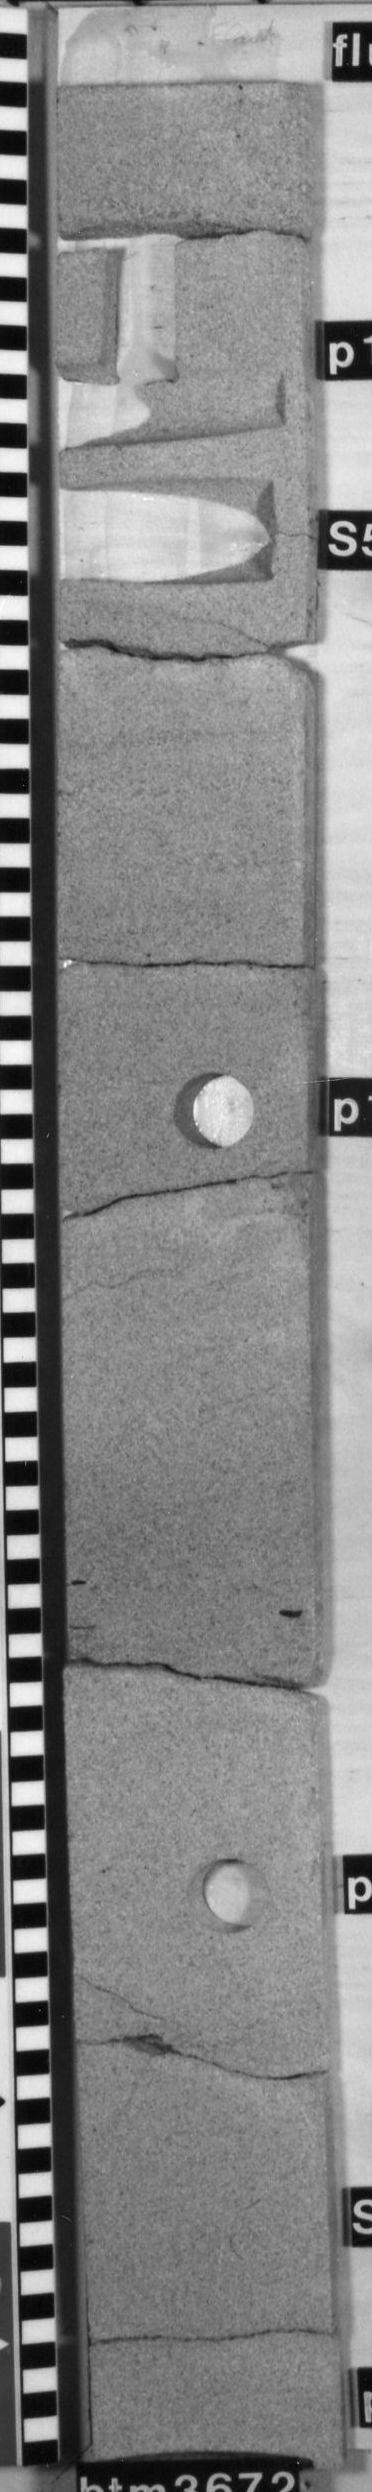hplug: (114, 367, 304, 443), (161, 1052, 265, 1162), (180, 1842, 285, 1952)
scal: (56, 459, 289, 596)
vplug: (92, 200, 197, 367)
